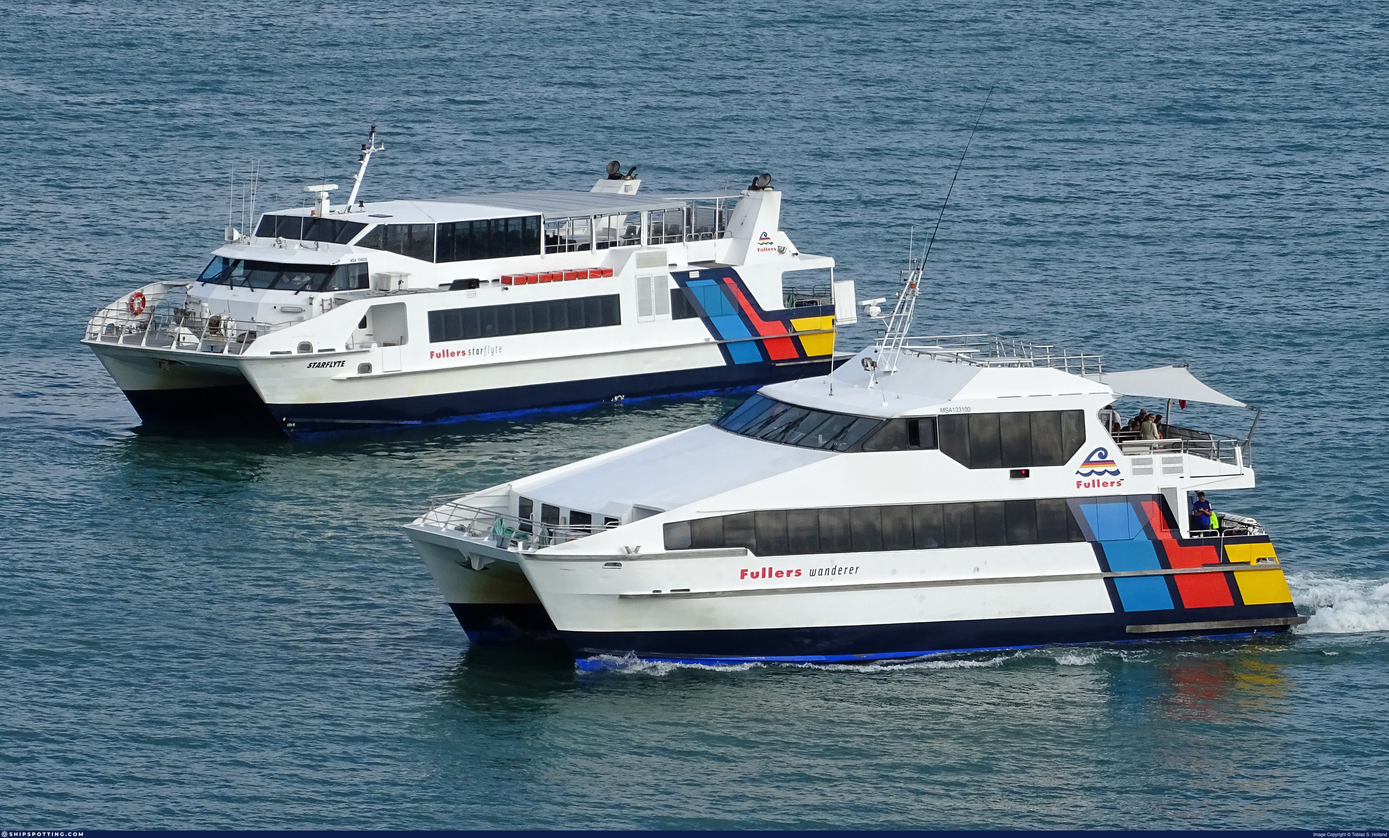ferry: (402, 238, 1317, 682), (80, 143, 863, 449)
